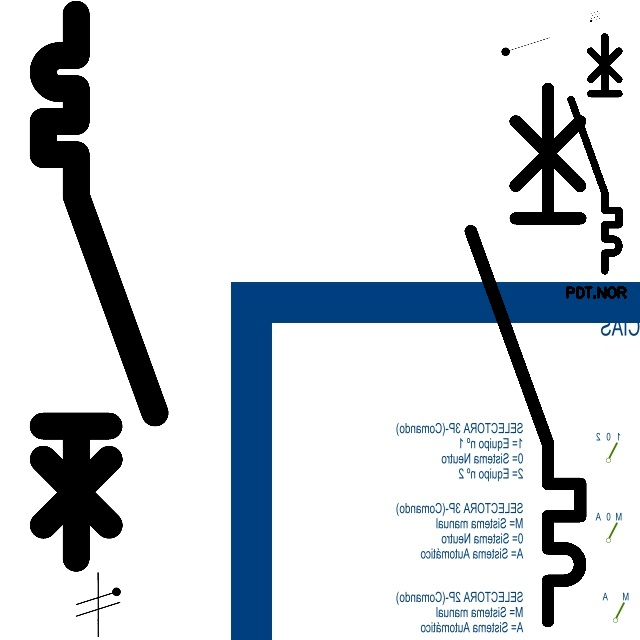interruptor_termomagnetico: (29, 0, 169, 572), (457, 75, 594, 635), (565, 30, 625, 276)
